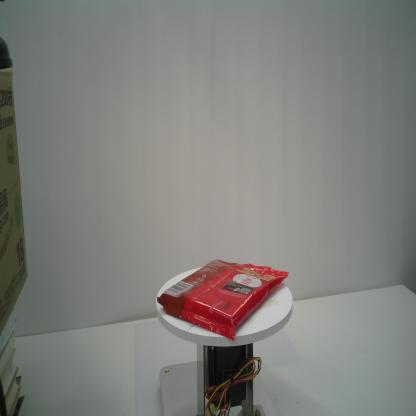Dessert: (156, 258, 289, 342)
